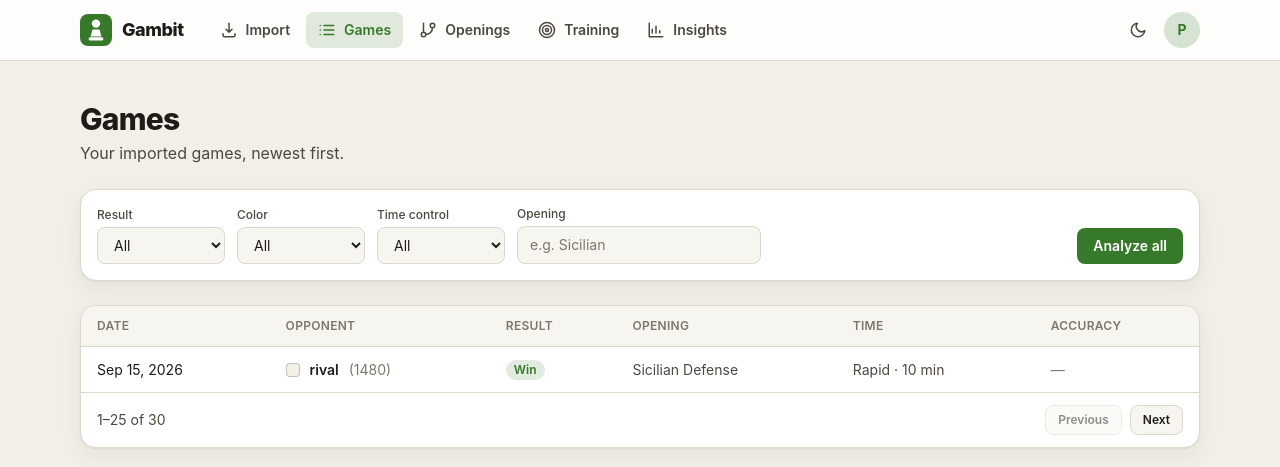
Test: pages through results
The image size is (1280, 467).
expect the text "1–25 of 30" is shown: met, box x1=97 y1=410 x2=166 y2=430
Click the button "Next" at (1156, 420), box x1=1130 y1=405 x2=1183 y2=435
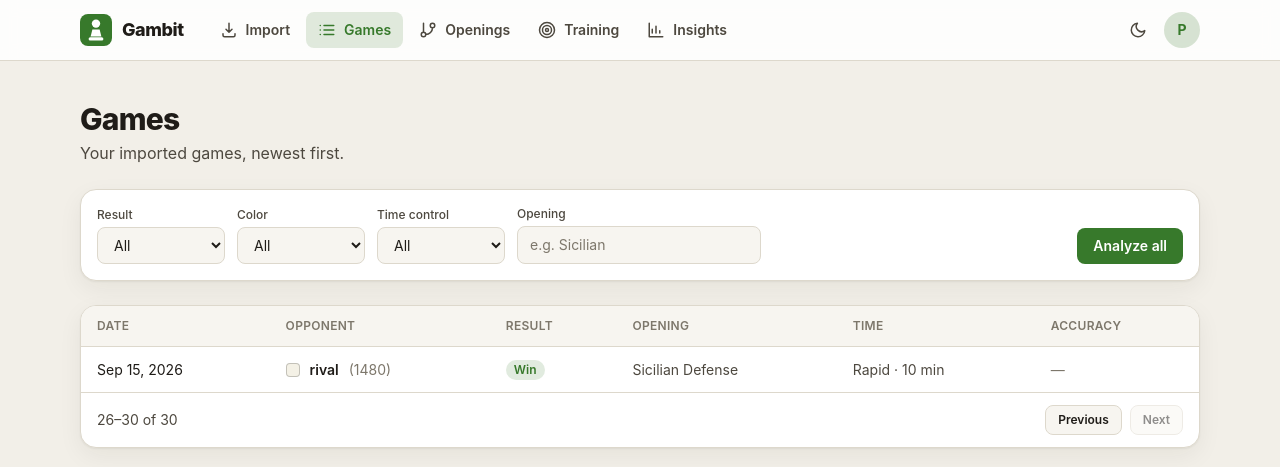
expect the text "26–30 of 30" is shown: met, box x1=97 y1=410 x2=178 y2=430
